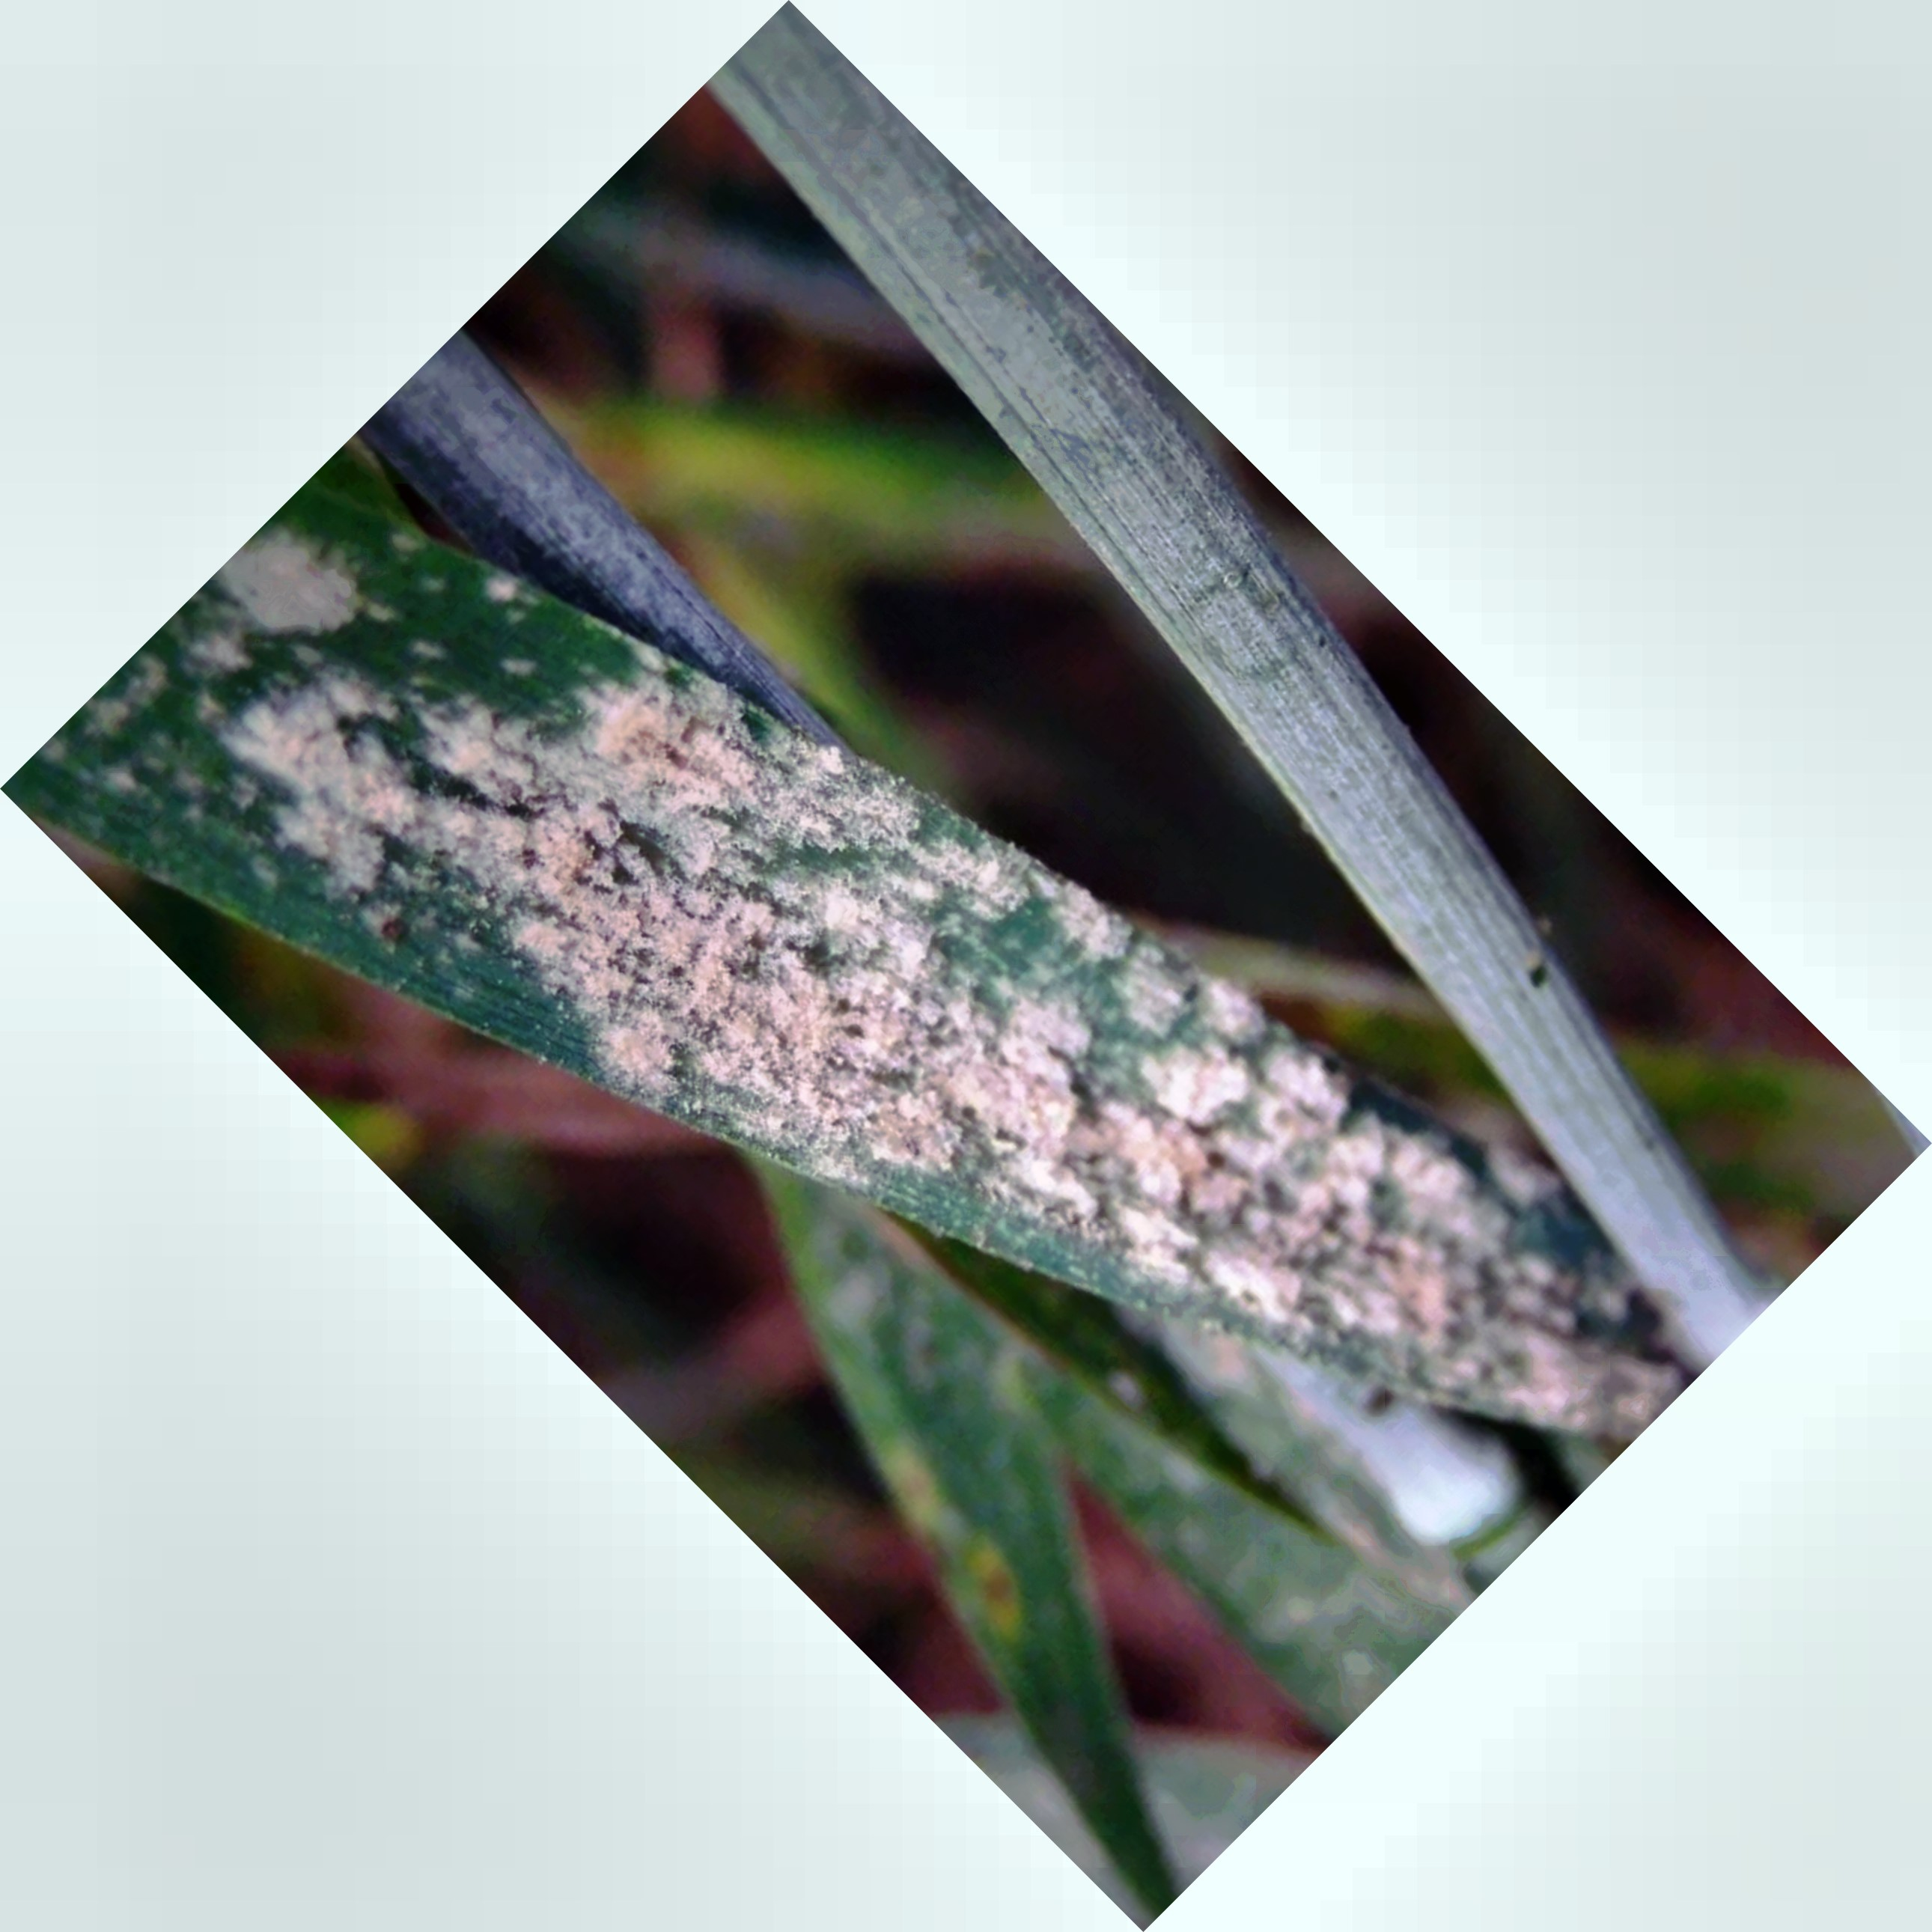Powdery Mildew: (373, 640, 1438, 1376)
